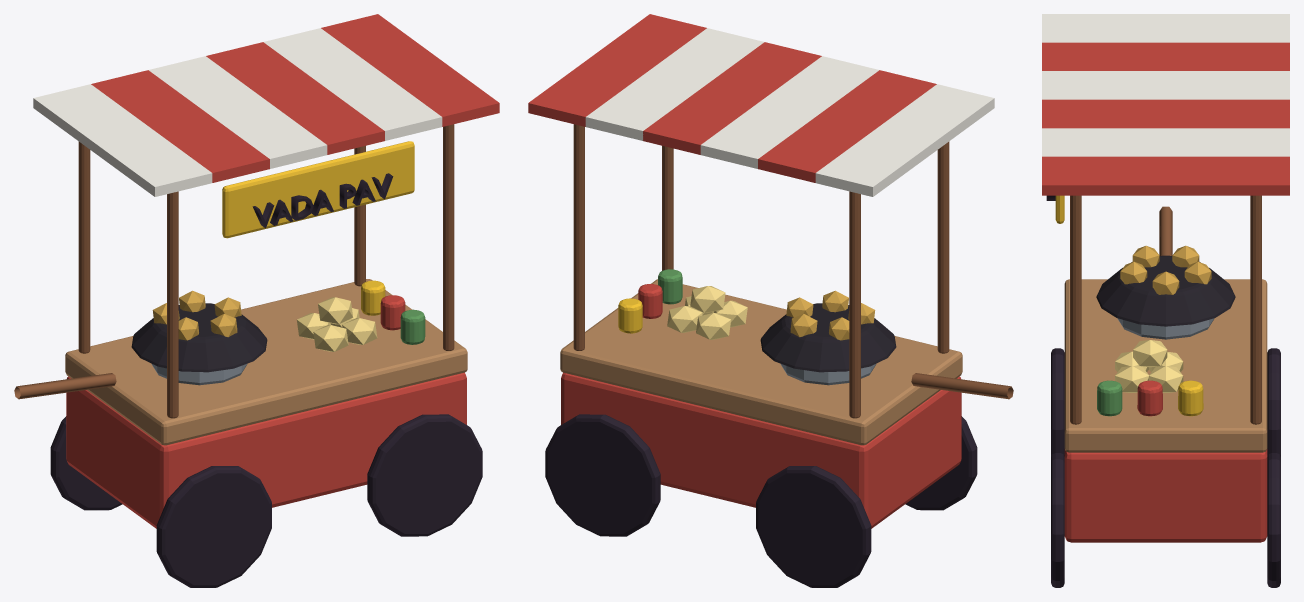
File: vada_pav_cart.glb
3 renders of one model, left to right at view 1: azimuth 30°, elevation 25°; view 2: azimuth 150°, elevation 25°; view 3: azimuth 270°, elevation 25°, orthographic.
Visible parts, largest first — view 1: vada_pav_cart; view 2: vada_pav_cart; view 3: vada_pav_cart.
Boxes of the visible parts, left/top/right/bottom form: vada_pav_cart: left=14, top=14, right=499, bottom=587; vada_pav_cart: left=528, top=14, right=1013, bottom=587; vada_pav_cart: left=1042, top=14, right=1289, bottom=587.
Bounding box in the file's own units: 2.2 × 2.1 × 1.1.
